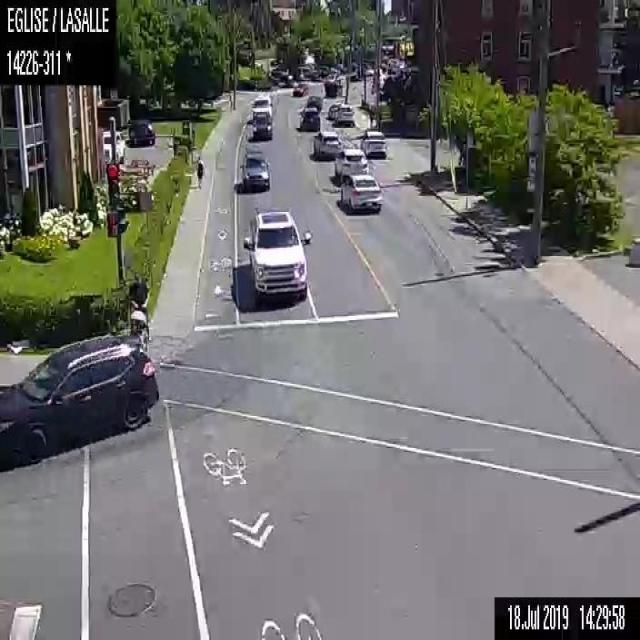pedestrian: (196, 154, 204, 188)
vehicle: (0, 334, 157, 461), (243, 207, 311, 300), (339, 174, 384, 214), (333, 148, 368, 178), (312, 129, 342, 159), (243, 156, 268, 189), (359, 127, 385, 157), (128, 119, 156, 145), (102, 131, 124, 163), (250, 113, 274, 139), (298, 106, 320, 130), (303, 81, 324, 106), (250, 94, 273, 116), (334, 104, 354, 126), (327, 102, 341, 118), (290, 83, 306, 96)
